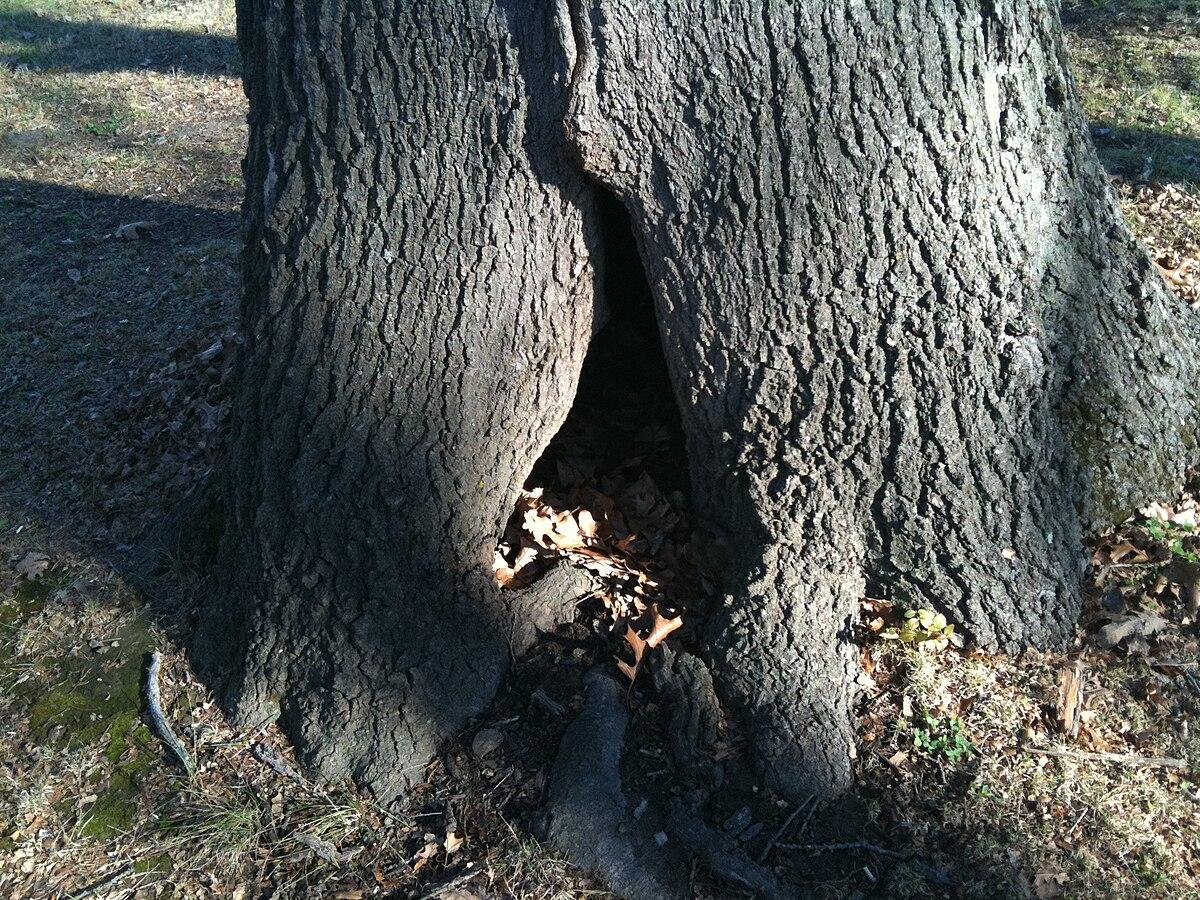hollow: (481, 180, 788, 673)
